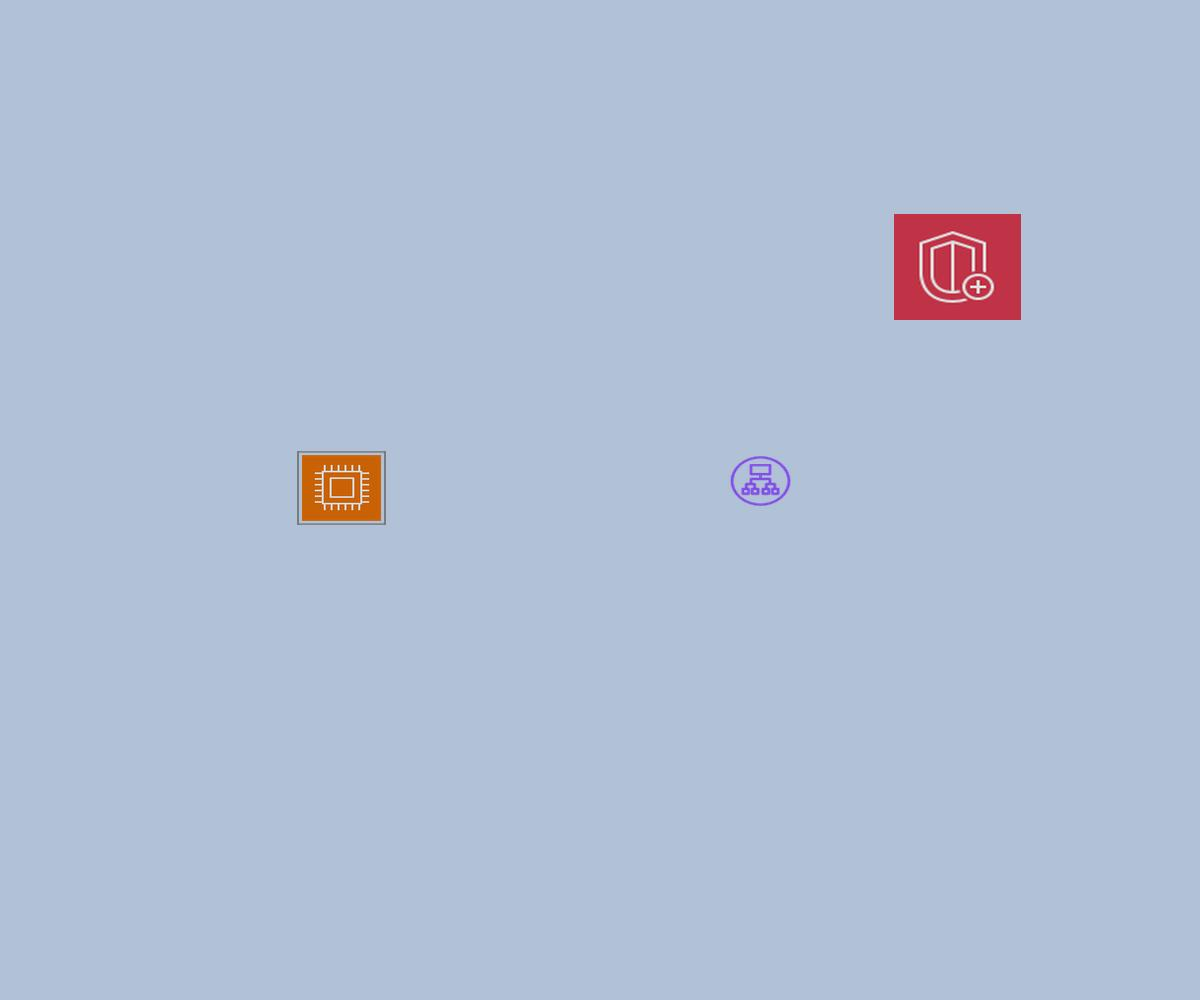AWS-Category_Compute: (297, 451, 386, 525)
AWS-Res_Elastic-Load-Balancing_Application-Load-Balancer: (728, 454, 793, 508)
AWS-Shield: (894, 214, 1021, 320)
